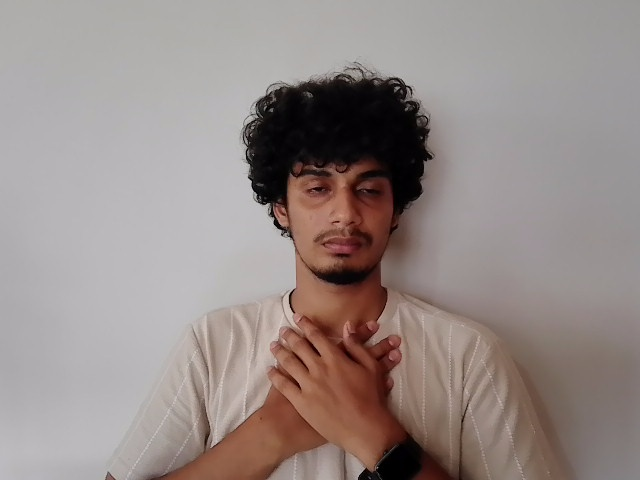relaxing: (263, 313, 408, 438)
